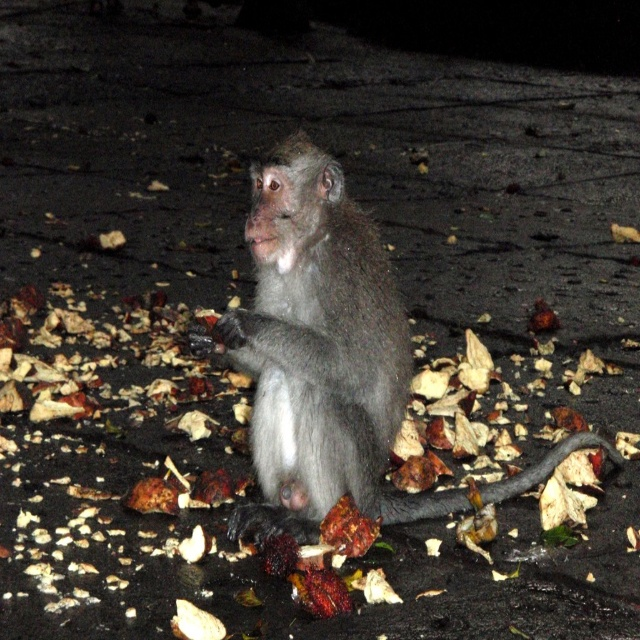Monkey: (183, 127, 625, 543)
